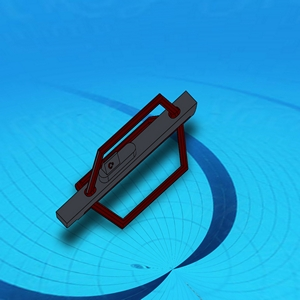submarine: (57, 78, 196, 222)
